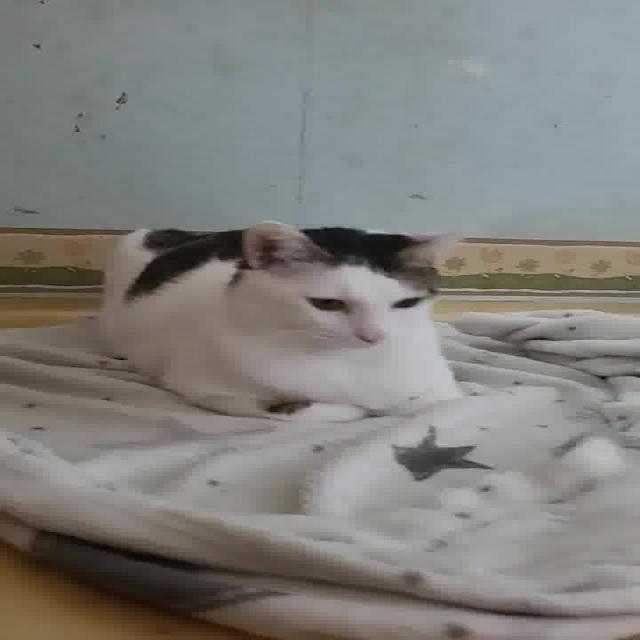cat: (93, 216, 483, 432)
